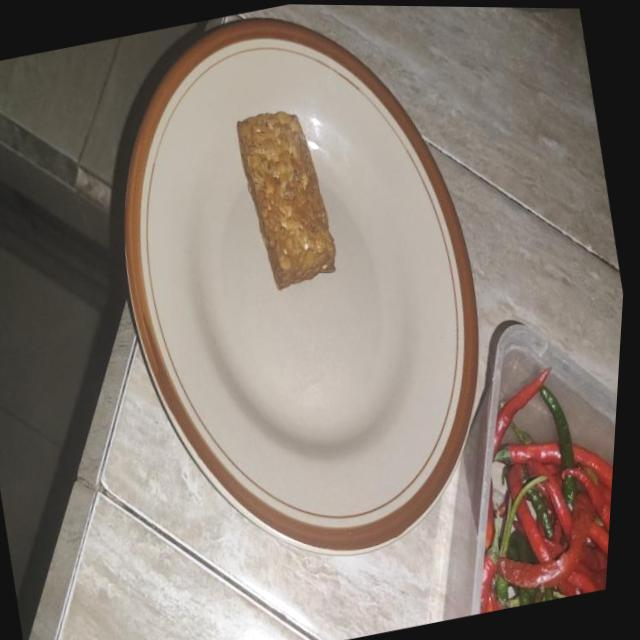tempe_goreng: (237, 112, 335, 290)
